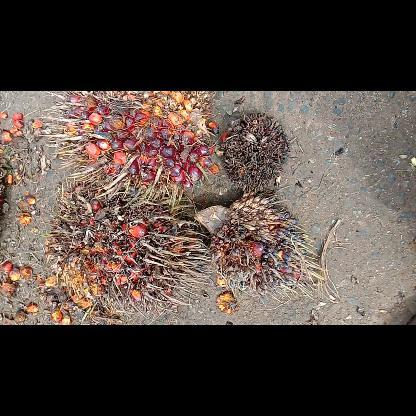TBS abnormal: (191, 192, 327, 304), (220, 107, 290, 194)
TBS masak: (38, 91, 216, 201)
Terlalu masak: (41, 180, 210, 314)
